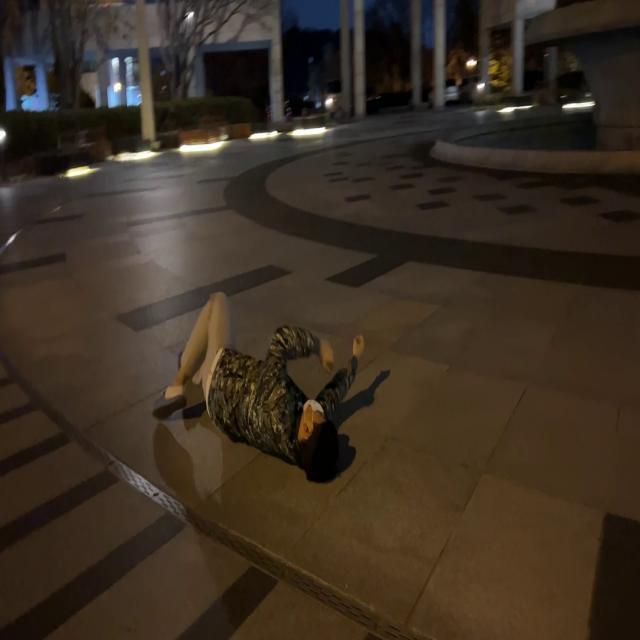Fall: (153, 293, 365, 482)
